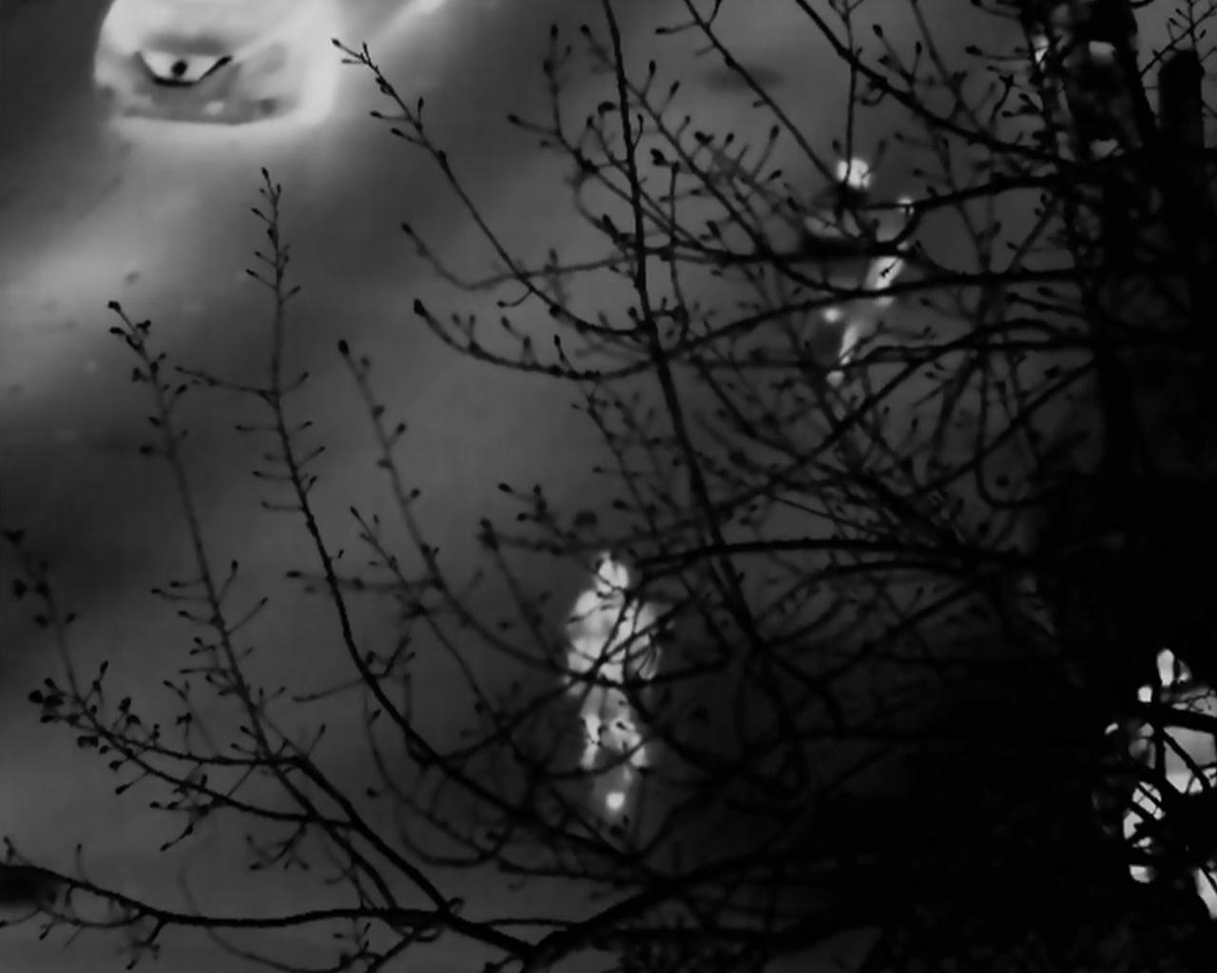person: (1121, 652, 1217, 888), (574, 562, 670, 792), (824, 156, 908, 339)
